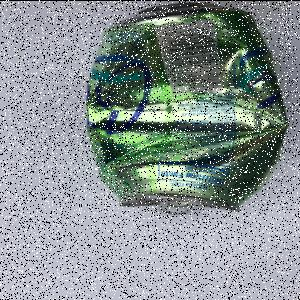Can: (86, 2, 290, 216)
